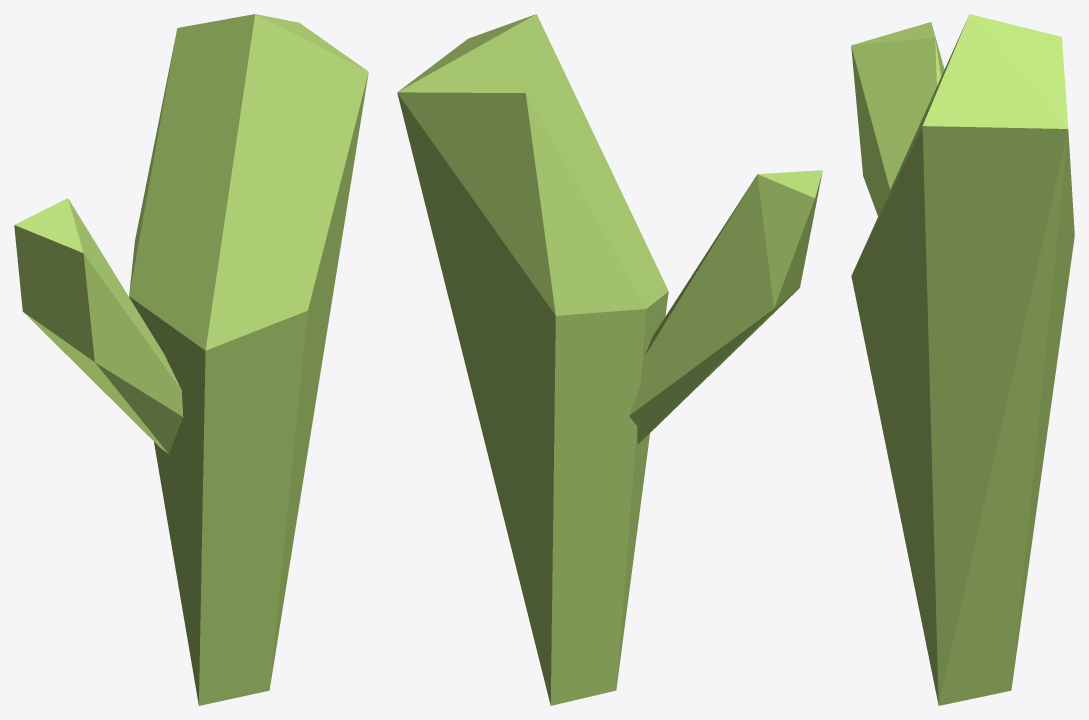
The model's file is Cactus_s_02.fbx.
3 renders of one model, left to right at view 1: azimuth 30°, elevation 25°; view 2: azimuth 150°, elevation 25°; view 3: azimuth 270°, elevation 25°, orthographic. The views are drawn at different scales.
Parts seen in each view (by area): view 1: Cactus_s_02; view 2: Cactus_s_02; view 3: Cactus_s_02.
Boxes of the visible parts, x1,y1,x2,y2 form: Cactus_s_02: (14, 14, 368, 705); Cactus_s_02: (397, 14, 822, 705); Cactus_s_02: (851, 14, 1074, 705).
Bounding box in the file's own units: 36.47 × 66.24 × 19.35.
